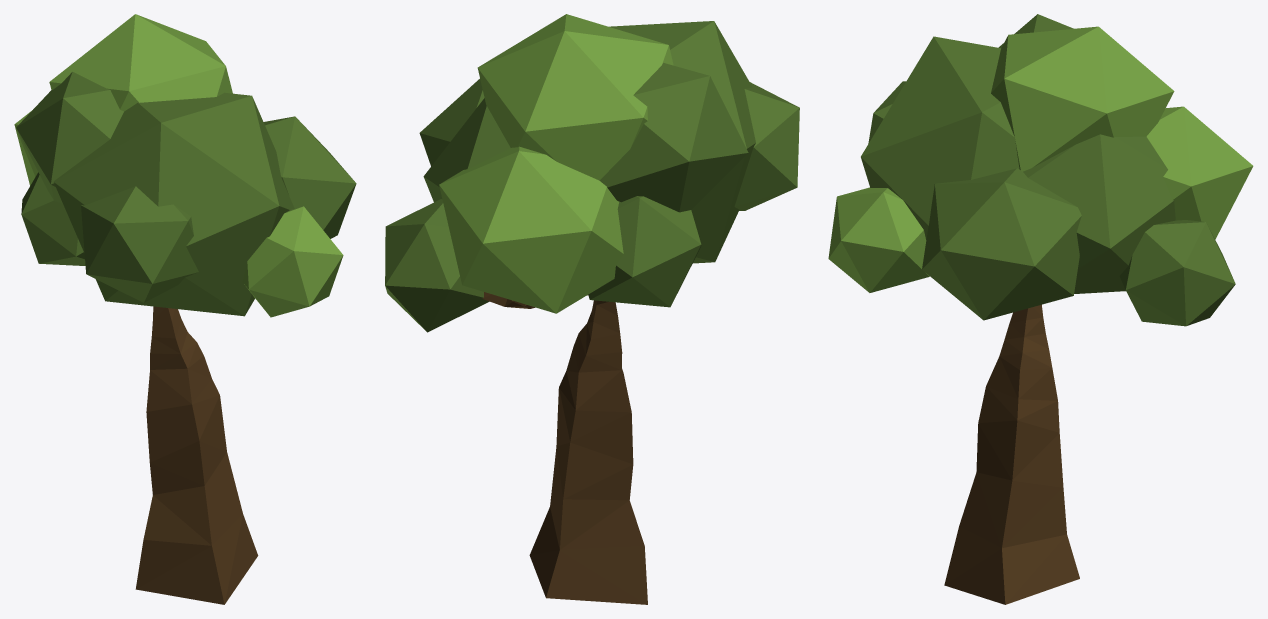
The model's file is Tree2.glb.
3 views of the same model, side by side, from view 1: azimuth 30°, elevation 25°; view 2: azimuth 150°, elevation 25°; view 3: azimuth 270°, elevation 25° (orthographic). The views are drawn at different scales.
Visible parts, largest first — view 1: Icosphere.007, Cube, Icosphere, Icosphere.008, Icosphere.005, Icosphere.001, Icosphere.004, Icosphere.009; view 2: Cube, Icosphere.002, Icosphere.008, Icosphere.001, Icosphere.007, Icosphere.003, Icosphere.009, Icosphere, Icosphere.006, Icosphere.004; view 3: Cube, Icosphere.004, Icosphere.007, Icosphere.008, Icosphere.006, Icosphere.003, Icosphere.005, Icosphere.002, Icosphere.001.
Part boxes in pixels (x1=…): Icosphere.007: x1=53, y1=92, x2=294, y2=316; Cube: x1=135, y1=306, x2=258, y2=604; Icosphere: x1=81, y1=186, x2=198, y2=302; Icosphere.008: x1=49, y1=14, x2=232, y2=111; Icosphere.005: x1=243, y1=206, x2=343, y2=317; Icosphere.001: x1=16, y1=71, x2=123, y2=203; Icosphere.004: x1=263, y1=116, x2=356, y2=238; Icosphere.009: x1=21, y1=172, x2=85, y2=265; Cube: x1=482, y1=292, x2=647, y2=604; Icosphere.002: x1=439, y1=146, x2=623, y2=313; Icosphere.008: x1=477, y1=14, x2=673, y2=180; Icosphere.001: x1=599, y1=63, x2=748, y2=212; Icosphere.007: x1=609, y1=21, x2=755, y2=263; Icosphere.003: x1=385, y1=199, x2=489, y2=332; Icosphere.009: x1=588, y1=196, x2=701, y2=307; Icosphere: x1=734, y1=82, x2=799, y2=210; Icosphere.006: x1=423, y1=98, x2=510, y2=202; Icosphere.004: x1=419, y1=79, x2=484, y2=166; Cube: x1=944, y1=304, x2=1079, y2=604; Icosphere.004: x1=922, y1=168, x2=1081, y2=320; Icosphere.007: x1=861, y1=36, x2=1019, y2=239; Icosphere.008: x1=991, y1=26, x2=1174, y2=171; Icosphere.006: x1=1023, y1=134, x2=1175, y2=293; Icosphere.003: x1=1119, y1=220, x2=1235, y2=326; Icosphere.005: x1=828, y1=187, x2=929, y2=292; Icosphere.002: x1=1146, y1=106, x2=1253, y2=239; Icosphere.001: x1=998, y1=14, x2=1073, y2=47.
Size of the model in its own units: 3.3 by 5.81 by 4.06.
